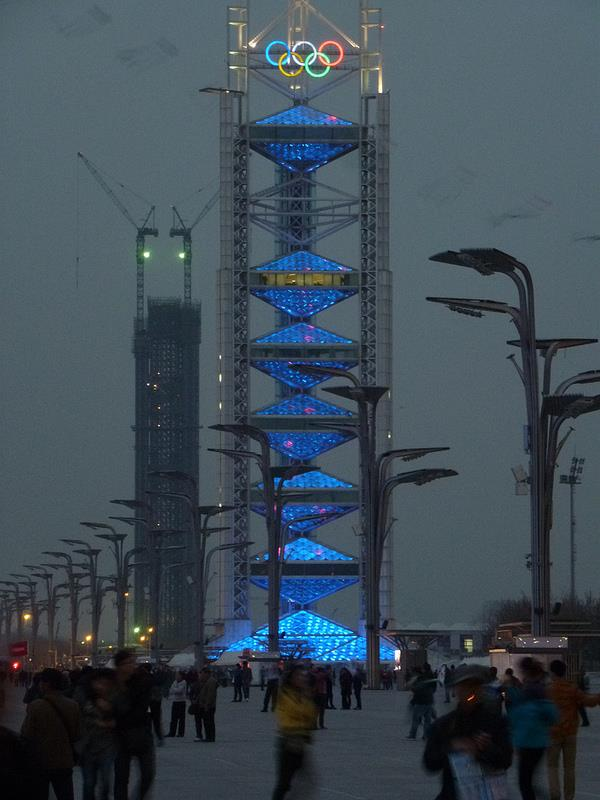LingLong_Pagoda: (207, 17, 405, 668)
